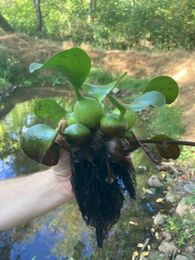water_hyacinth: (17, 43, 179, 241)
